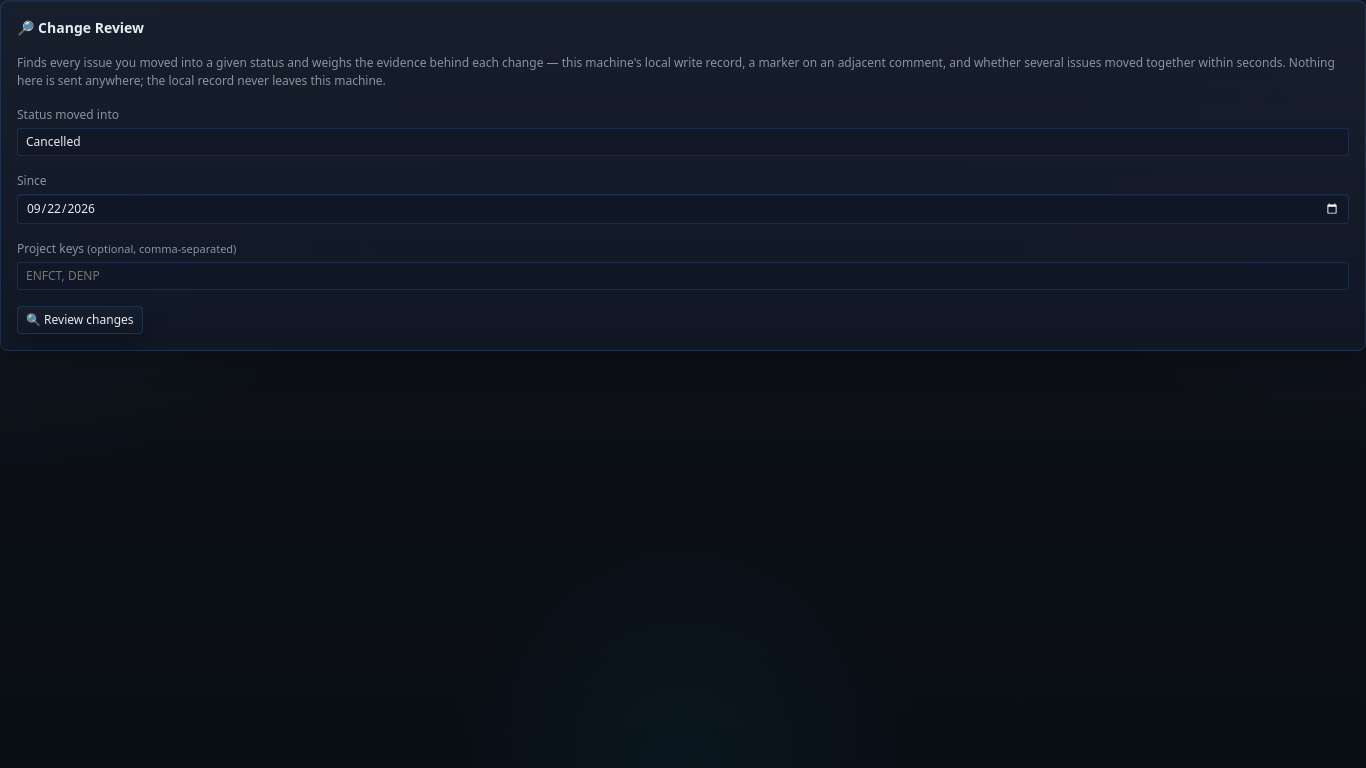
Test case: ChangeAuditPanel › warns that nothing can be ruled out when no local record exists yet
Click the button "🔍 Review changes" at point(80, 320), box [17, 306, 143, 334]
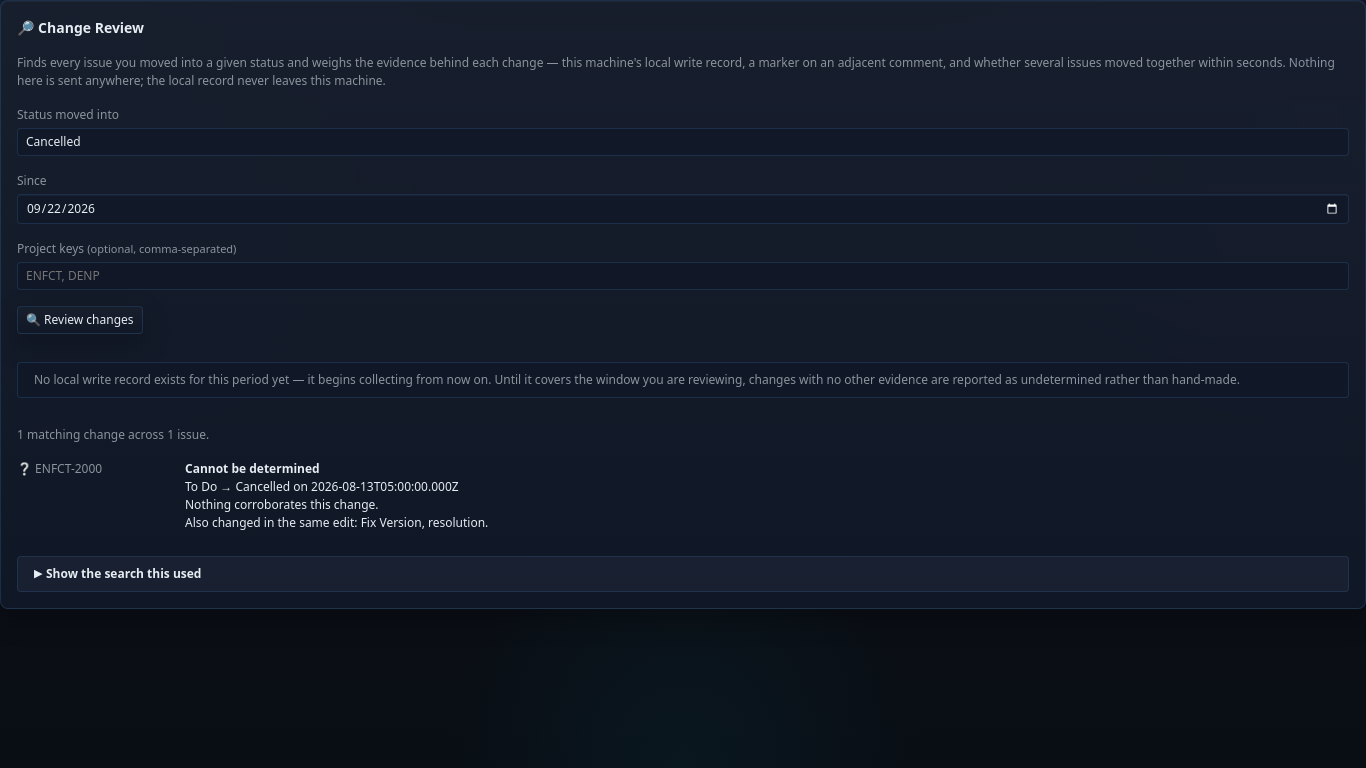
Result: the text "No local write record exists for this period yet" is shown at [34, 371, 1240, 388]
Result: the text "Cannot be determined" is shown at [185, 460, 320, 477]
